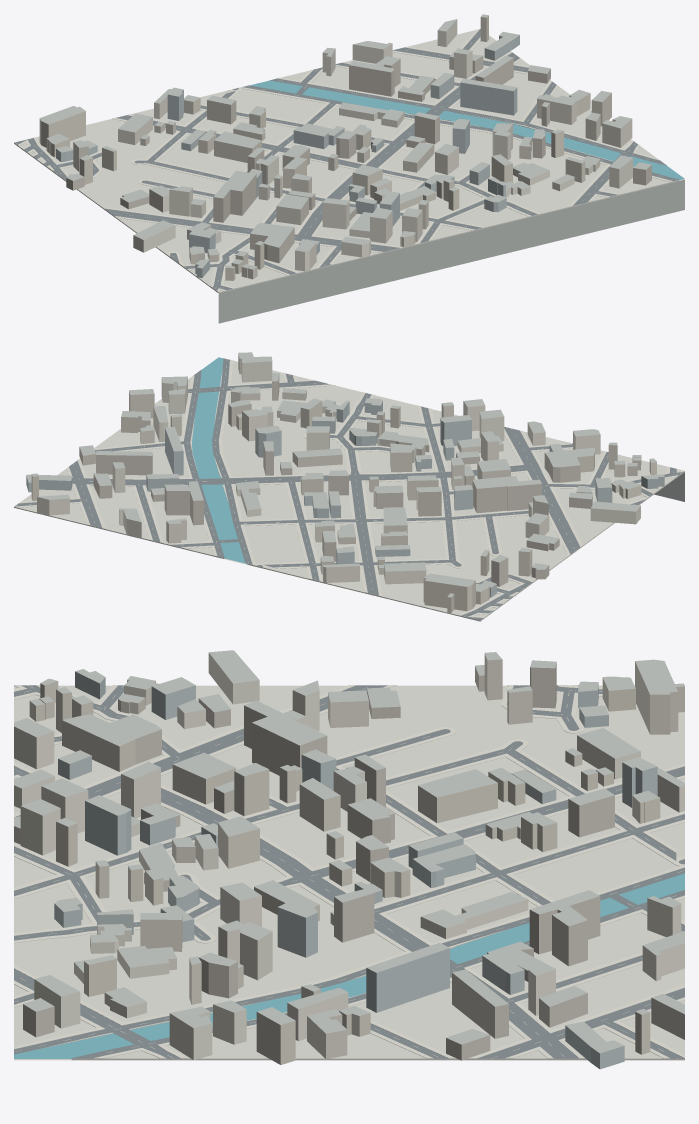
3 views of the same model, one above another, from view 1: azimuth 30°, elevation 25°; view 2: azimuth 150°, elevation 25°; view 3: azimuth 270°, elevation 25° (orthographic). The views are drawn at different scales.
Visible parts, largest first — view 1: city; view 2: city; view 3: city.
Part boxes in pixels (bbox=[...]): city: bbox=[14, 14, 684, 323]; city: bbox=[14, 352, 684, 621]; city: bbox=[14, 650, 684, 1069].
Bounding box in the file's own units: 534 × 57 × 380.
